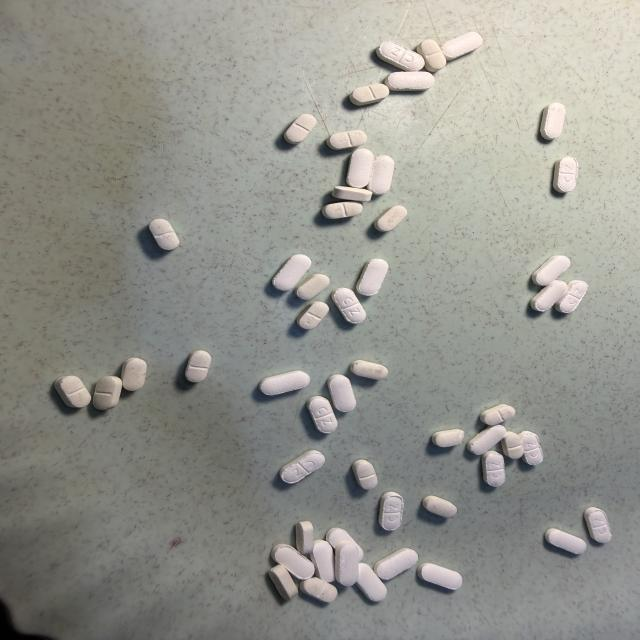pill: (271, 544, 314, 579), (280, 450, 325, 483), (377, 41, 424, 71), (272, 255, 311, 291), (374, 548, 418, 579), (259, 370, 310, 395), (326, 528, 363, 561), (332, 288, 366, 323), (467, 425, 506, 455), (357, 563, 387, 602), (356, 259, 388, 295), (531, 280, 568, 311), (418, 563, 462, 589), (532, 256, 570, 286), (442, 32, 482, 60), (55, 376, 91, 407), (307, 396, 337, 433), (347, 148, 374, 188), (327, 375, 356, 412), (545, 528, 586, 554), (335, 540, 358, 586), (555, 281, 588, 313), (310, 540, 335, 582), (269, 565, 298, 600), (284, 114, 317, 144), (368, 156, 394, 194), (584, 507, 611, 543), (417, 39, 446, 72), (93, 376, 122, 409), (540, 103, 566, 139), (385, 71, 434, 90), (149, 219, 179, 250), (300, 577, 337, 602), (379, 492, 403, 530), (553, 157, 578, 193), (295, 274, 330, 299), (297, 301, 328, 329), (121, 358, 147, 391), (185, 350, 211, 382), (374, 206, 407, 231), (350, 84, 389, 105), (482, 451, 505, 486), (327, 130, 367, 150), (520, 431, 543, 465), (480, 404, 515, 425), (352, 460, 377, 489), (350, 360, 388, 379), (423, 496, 457, 517), (322, 202, 362, 219), (332, 186, 372, 202), (431, 429, 465, 447), (502, 432, 524, 459), (296, 521, 313, 554)
